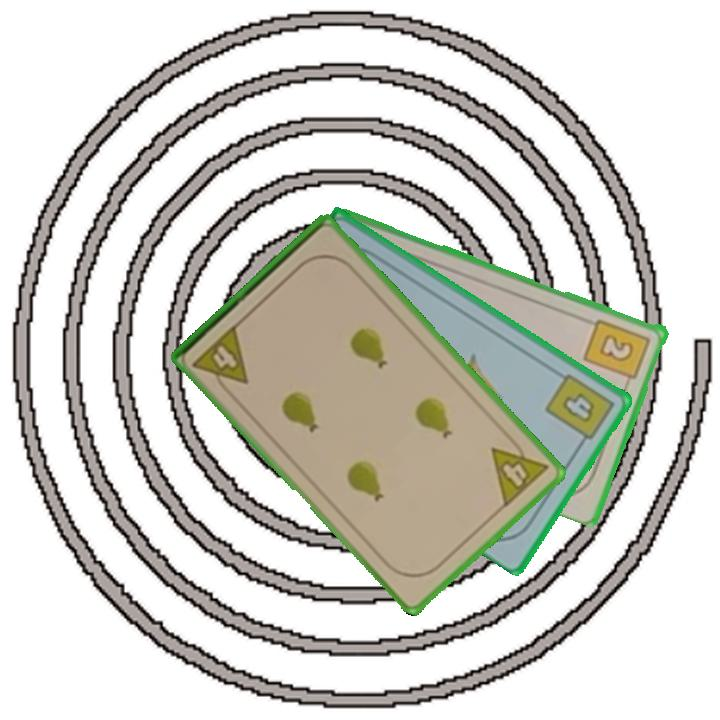2b: (581, 315, 654, 390)
4b: (541, 369, 618, 450)
4p: (487, 430, 551, 511), (189, 320, 252, 399)
